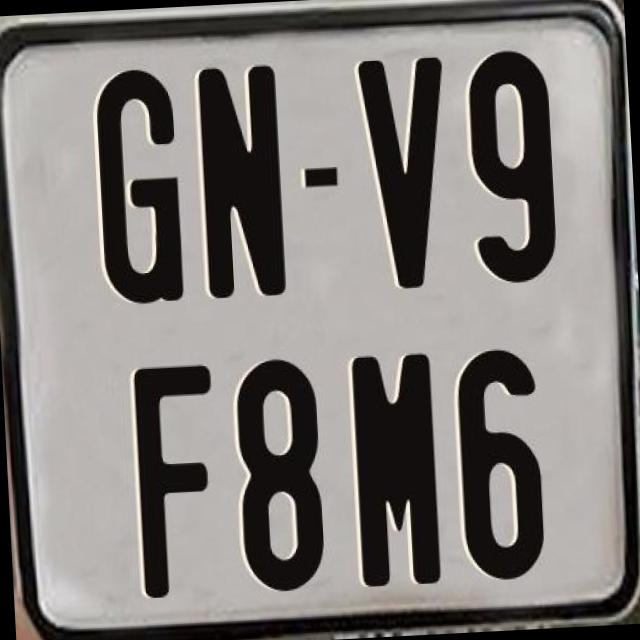6: (455, 347, 549, 583)
8: (230, 352, 326, 590)
9: (465, 48, 563, 289)
F: (131, 360, 221, 596)
G: (94, 69, 185, 312)
M: (348, 351, 443, 589)
N: (198, 62, 294, 303)
V: (358, 57, 454, 292)
